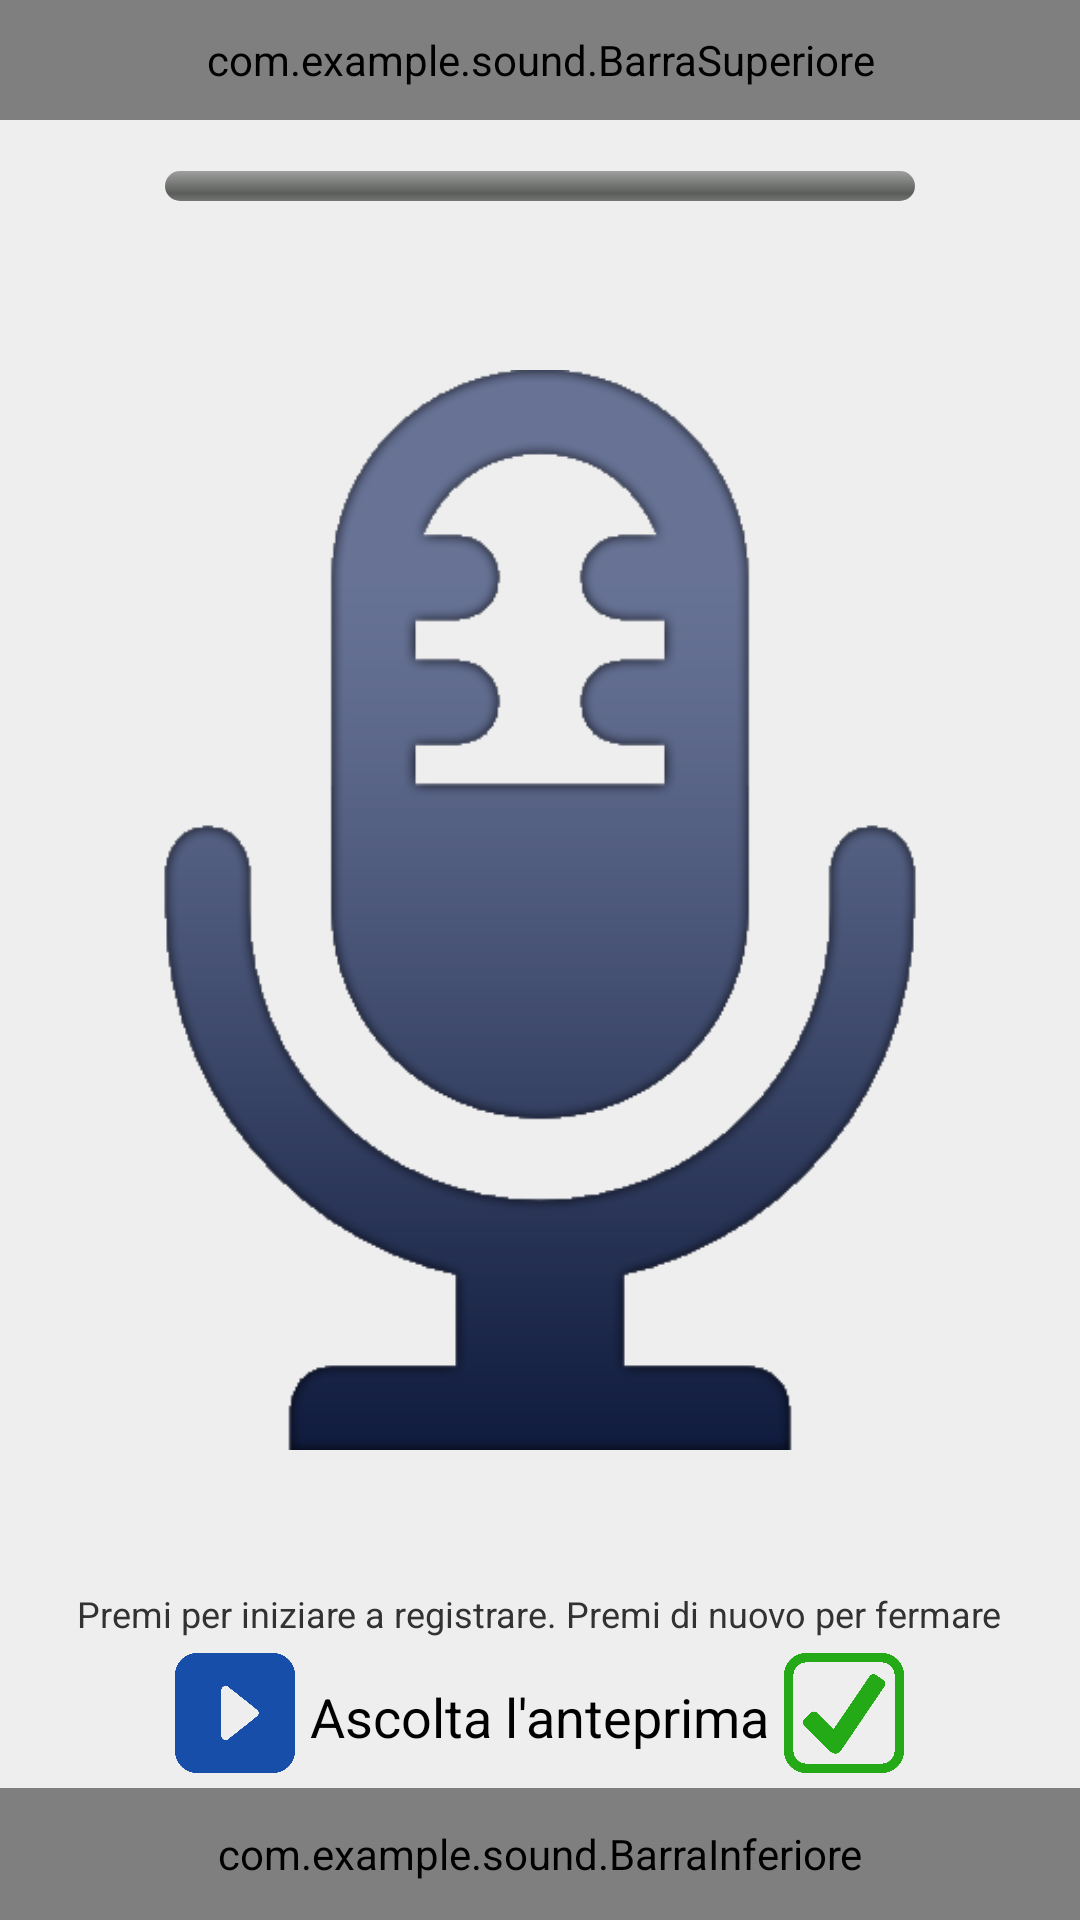

Icons on this 1080×1920 Android screen, each with the point to tap as (x,y):
playanteprima: (235,1713)
